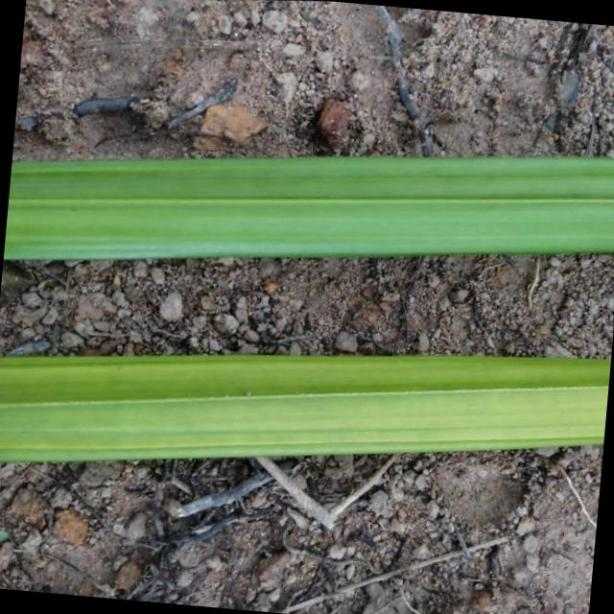nitrogen: (0, 350, 614, 464), (0, 150, 614, 259)
